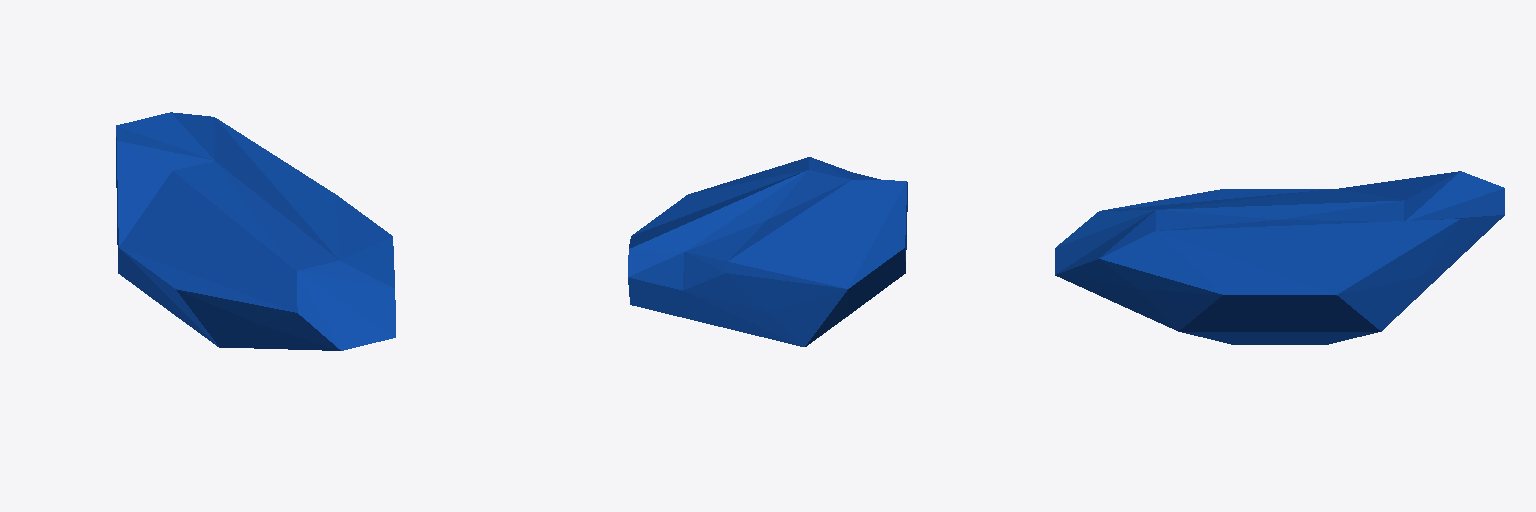
File: Plataforma1.obj
3 renders of one model, left to right at view 1: azimuth 30°, elevation 25°; view 2: azimuth 150°, elevation 25°; view 3: azimuth 270°, elevation 25°, orthographic.
Parts seen in each view (by area): view 1: Hedra001; view 2: Hedra001; view 3: Hedra001.
Boxes of the visible parts, x1,y1,x2,y2 form: Hedra001: [116, 112, 395, 350]; Hedra001: [628, 157, 907, 346]; Hedra001: [1055, 171, 1504, 344].
Size of the model in its own units: 154 by 82.68 by 277.